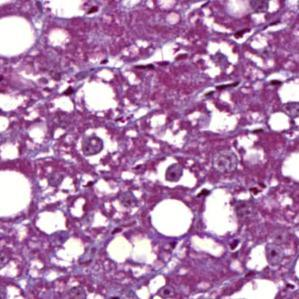steatosis: (148, 195, 194, 241)
